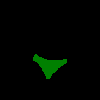mutande: (33, 53, 67, 79)
